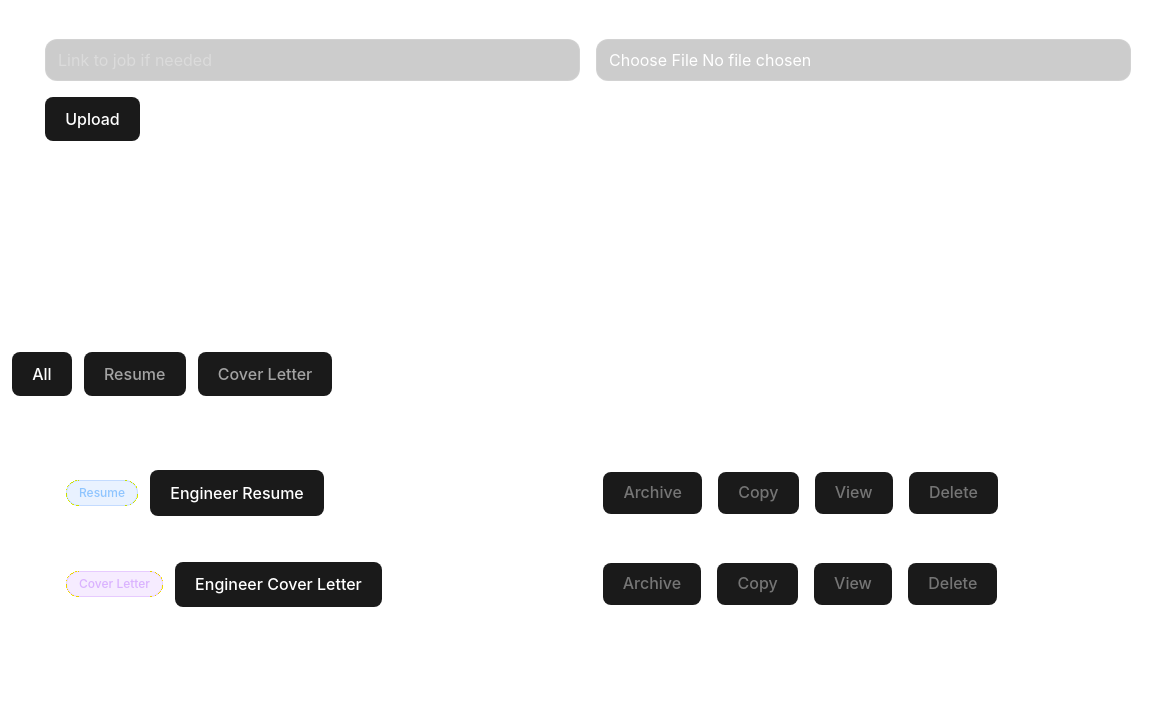
Test: DocumentLibraryPage › clicking a document title enters rename mode (shows input with current title)
(page scrolled)
Click the button with aria-label "rename engineer resume": (237, 493) [150,470,324,516]
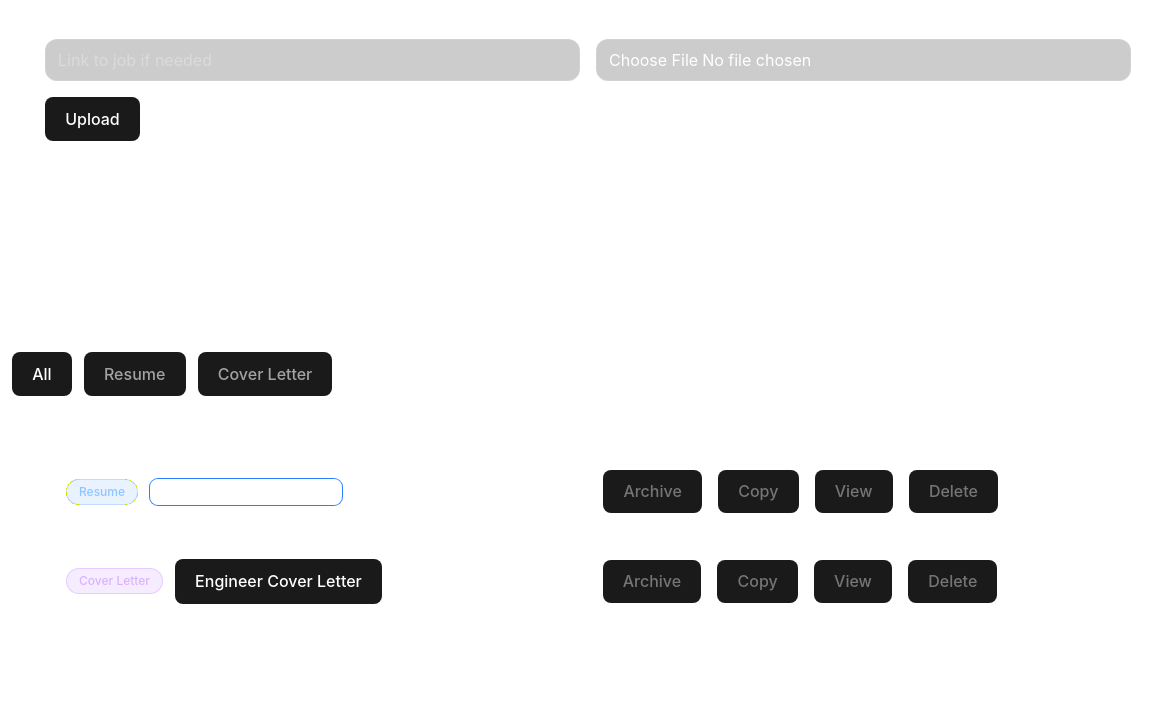
Expected: the field named "rename document" holds "Engineer Resume", [150,479,342,505]
